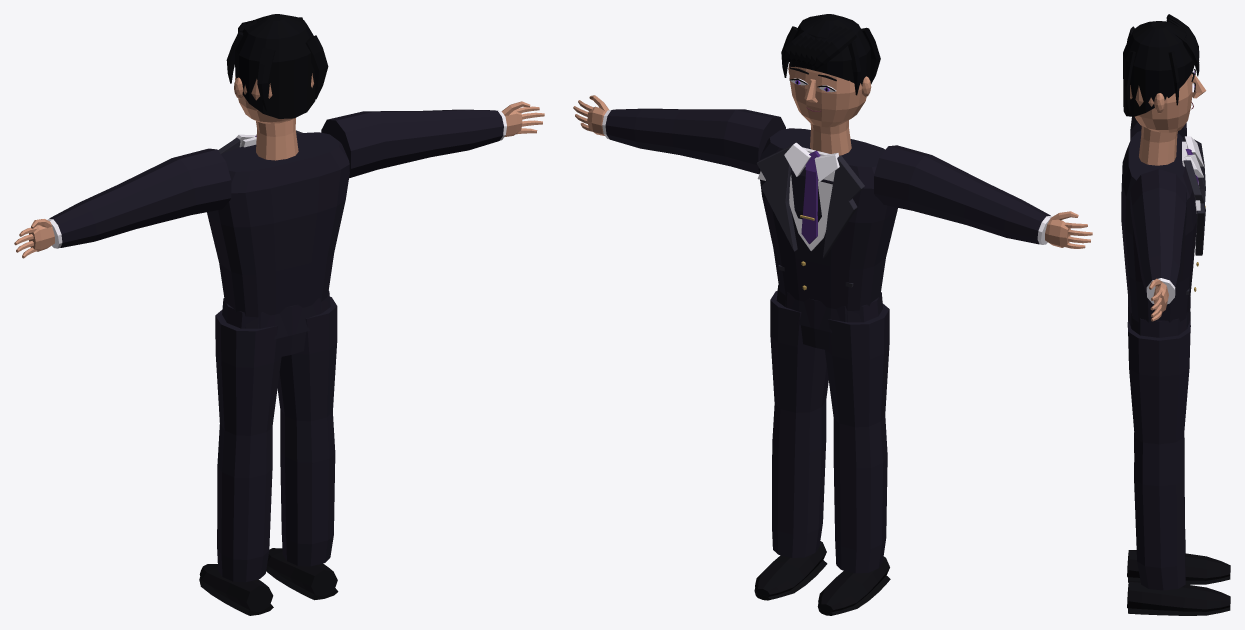
The model's file is character.glb.
3 renders of one model, left to right at view 1: azimuth 30°, elevation 25°; view 2: azimuth 150°, elevation 25°; view 3: azimuth 270°, elevation 25°, orthographic. The views are drawn at different scales.
Visible parts, largest first — view 1: Jacket_Tailored_Torso, Trouser_Leg_L, Trouser_Leg_R, Sleeve_Continuous_L, Sleeve_Continuous_R, Hair_Scalp_Cap, Pelvis_Trouser_Loft, Shoe_Last_L, Shoe_Last_R, Neck_Loft, Hair_Back_Lock_R, Head_Anatomical_Loft (+1 smaller); view 2: Trouser_Leg_L, Jacket_Tailored_Torso, Trouser_Leg_R, Sleeve_Continuous_L, Sleeve_Continuous_R, Head_Anatomical_Loft, Hair_Scalp_Cap, Lapel_Notched_R, Lapel_Notched_L, Shoe_Last_R, Shoe_Last_L, Pelvis_Trouser_Loft (+3 smaller); view 3: Trouser_Leg_R, Jacket_Tailored_Torso, Sleeve_Continuous_R, Hair_Scalp_Cap, Shoe_Last_R, Head_Anatomical_Loft, Shoe_Last_L, Neck_Loft, Pelvis_Trouser_Loft, Lapel_Notched_R, Shoe_Sole_R, Shirt_Cuff_R (+11 smaller).
Boxes of the visible parts, box(x1,y1,x2,y2) form: Jacket_Tailored_Torso: box(207, 132, 349, 339); Trouser_Leg_L: box(215, 310, 281, 582); Trouser_Leg_R: box(277, 296, 337, 566); Sleeve_Continuous_L: box(49, 148, 231, 247); Sleeve_Continuous_R: box(321, 109, 503, 178); Hair_Scalp_Cap: box(235, 14, 315, 118); Pelvis_Trouser_Loft: box(222, 290, 330, 357); Shoe_Last_L: box(199, 564, 273, 612); Shoe_Last_R: box(267, 548, 337, 596); Neck_Loft: box(256, 118, 298, 160); Hair_Back_Lock_R: box(305, 35, 328, 99); Head_Anatomical_Loft: box(235, 73, 313, 123); Trouser_Leg_L: box(825, 303, 889, 573); Jacket_Tailored_Torso: box(758, 128, 897, 332); Trouser_Leg_R: box(770, 290, 828, 557); Sleeve_Continuous_L: box(874, 145, 1050, 244); Sleeve_Continuous_R: box(605, 108, 785, 174); Head_Anatomical_Loft: box(789, 66, 866, 127); Hair_Scalp_Cap: box(789, 14, 870, 85); Lapel_Notched_R: box(756, 144, 797, 251); Lapel_Notched_L: box(822, 155, 864, 258); Shoe_Last_R: box(755, 541, 826, 596); Shoe_Last_L: box(818, 556, 889, 612); Pelvis_Trouser_Loft: box(776, 285, 882, 350); Trouser_Leg_R: box(1128, 320, 1190, 590); Jacket_Tailored_Torso: box(1121, 131, 1196, 333); Sleeve_Continuous_R: box(1130, 169, 1186, 295); Hair_Scalp_Cap: box(1123, 21, 1194, 116); Shoe_Last_R: box(1127, 581, 1230, 611); Head_Anatomical_Loft: box(1130, 73, 1192, 132); Shoe_Last_L: box(1127, 550, 1230, 580); Neck_Loft: box(1139, 126, 1177, 165); Pelvis_Trouser_Loft: box(1127, 300, 1190, 337); Lapel_Notched_R: box(1183, 160, 1205, 255); Shoe_Sole_R: box(1128, 607, 1230, 615); Shirt_Cuff_R: box(1146, 278, 1175, 304).
Bounding box in the file's own units: 1.74 × 1.81 × 0.3156.
